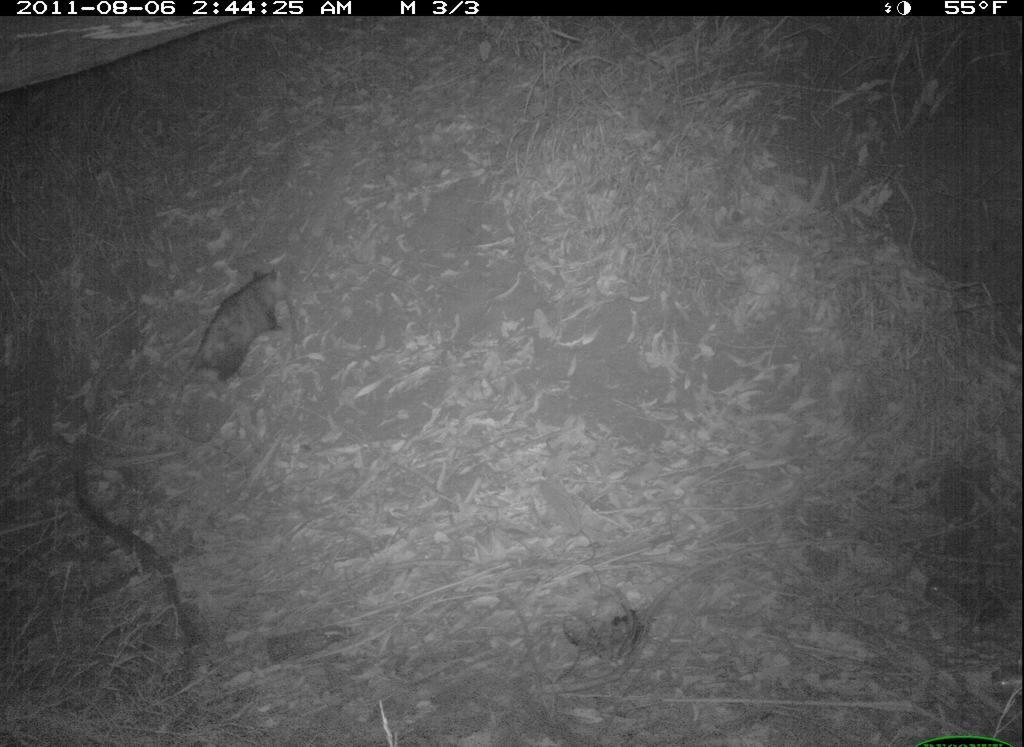opossum: (151, 251, 305, 418)
